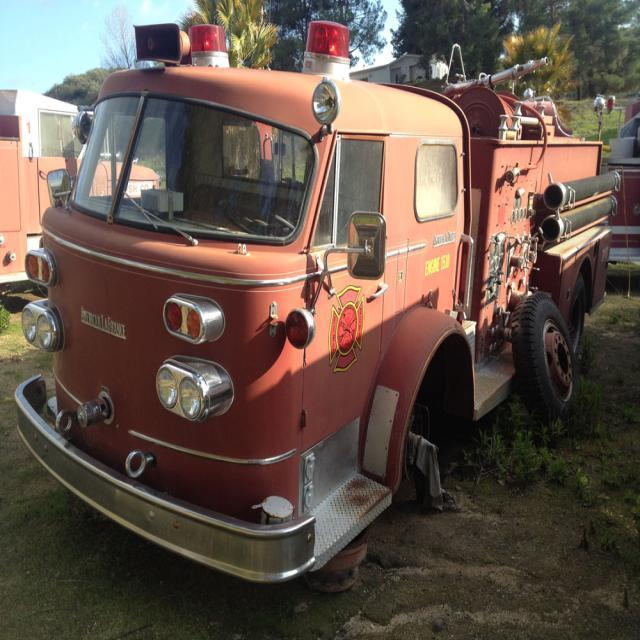Fire-engine: (13, 18, 621, 592), (0, 87, 161, 296), (597, 93, 639, 264)
